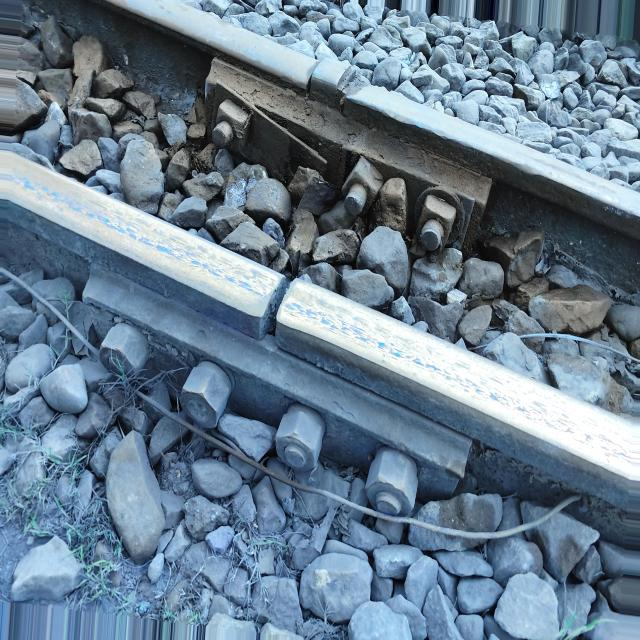crack: (236, 244, 306, 349)
